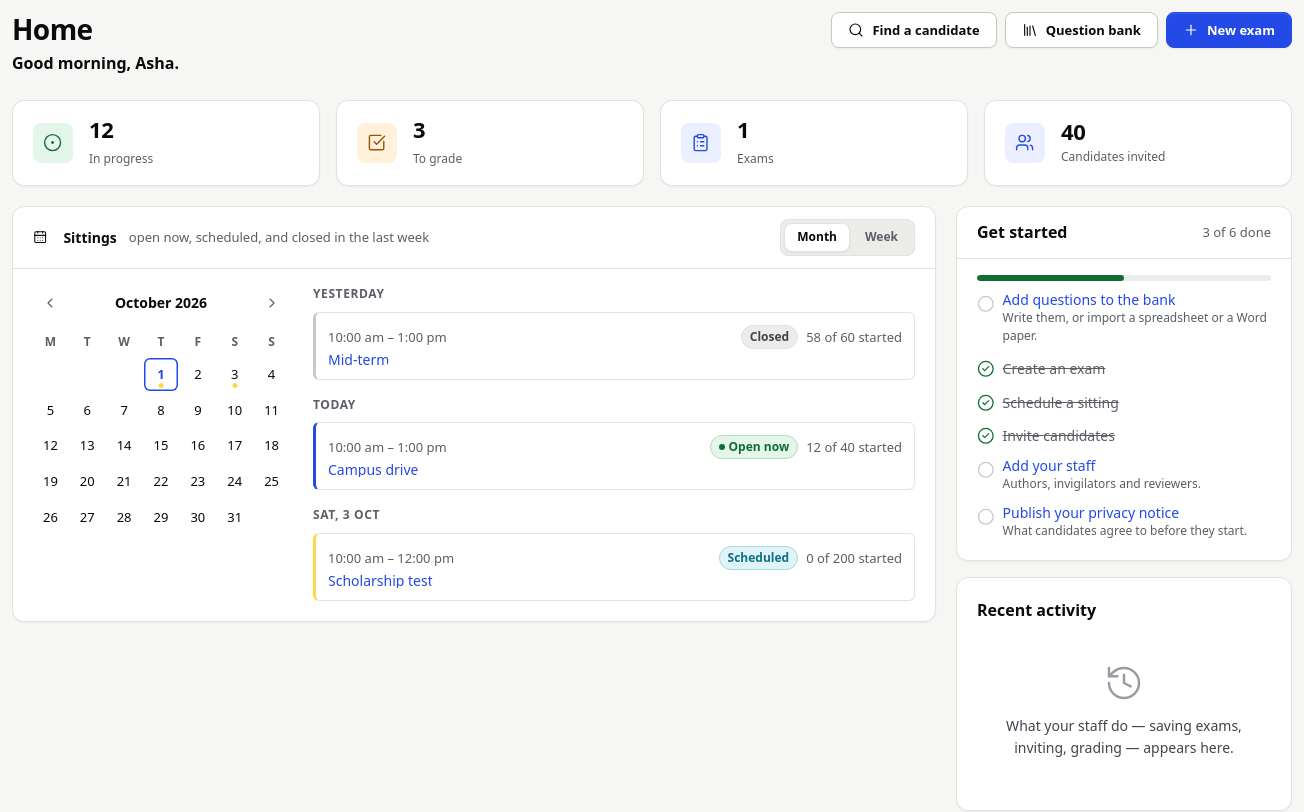
Test: the home calendar › shows only a chosen day's sittings, and opens an exam from them
The image size is (1304, 812).
Click the button named "3 October: 1 sitting". click: [235, 375]
box: [217,358,252,392]
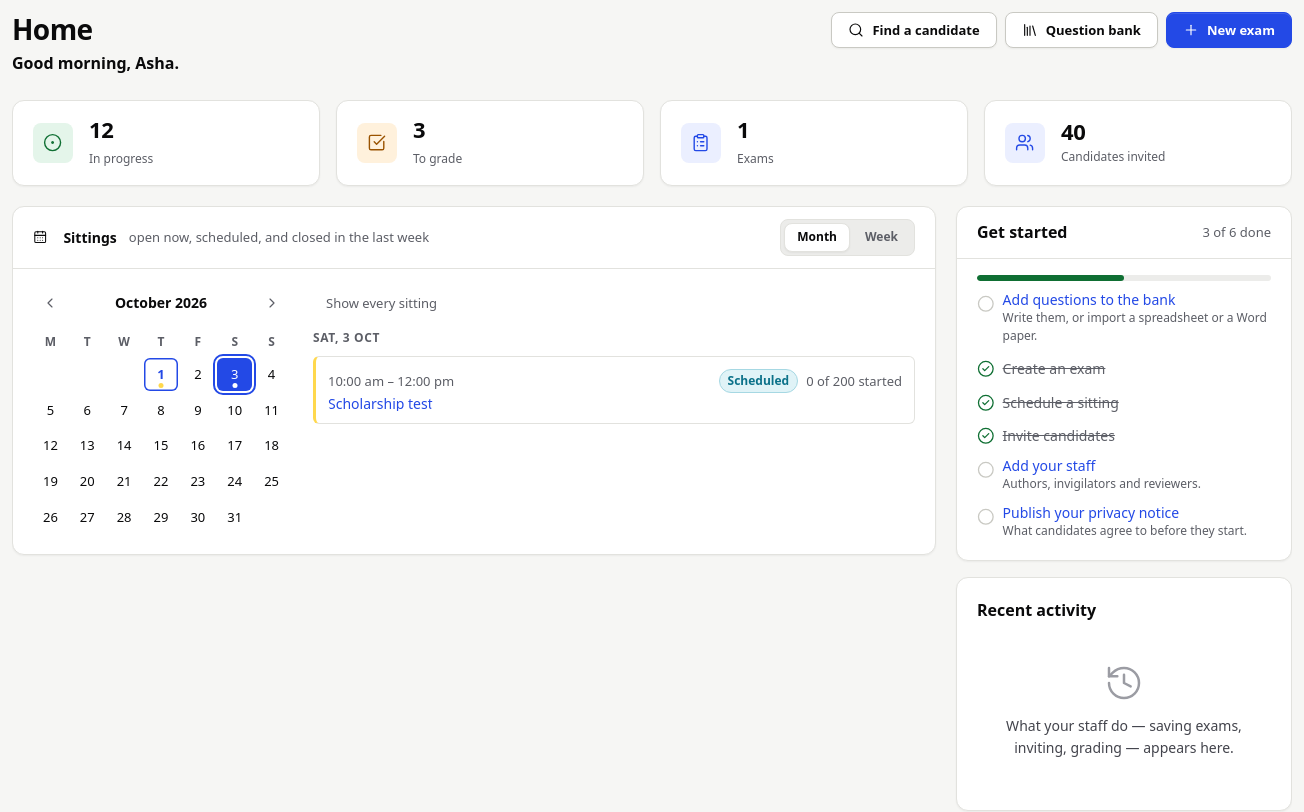
Expected: the button "Campus drive" is gone
Click the button "Scholarship test". click: [380, 404]
box: [328,397,433,411]
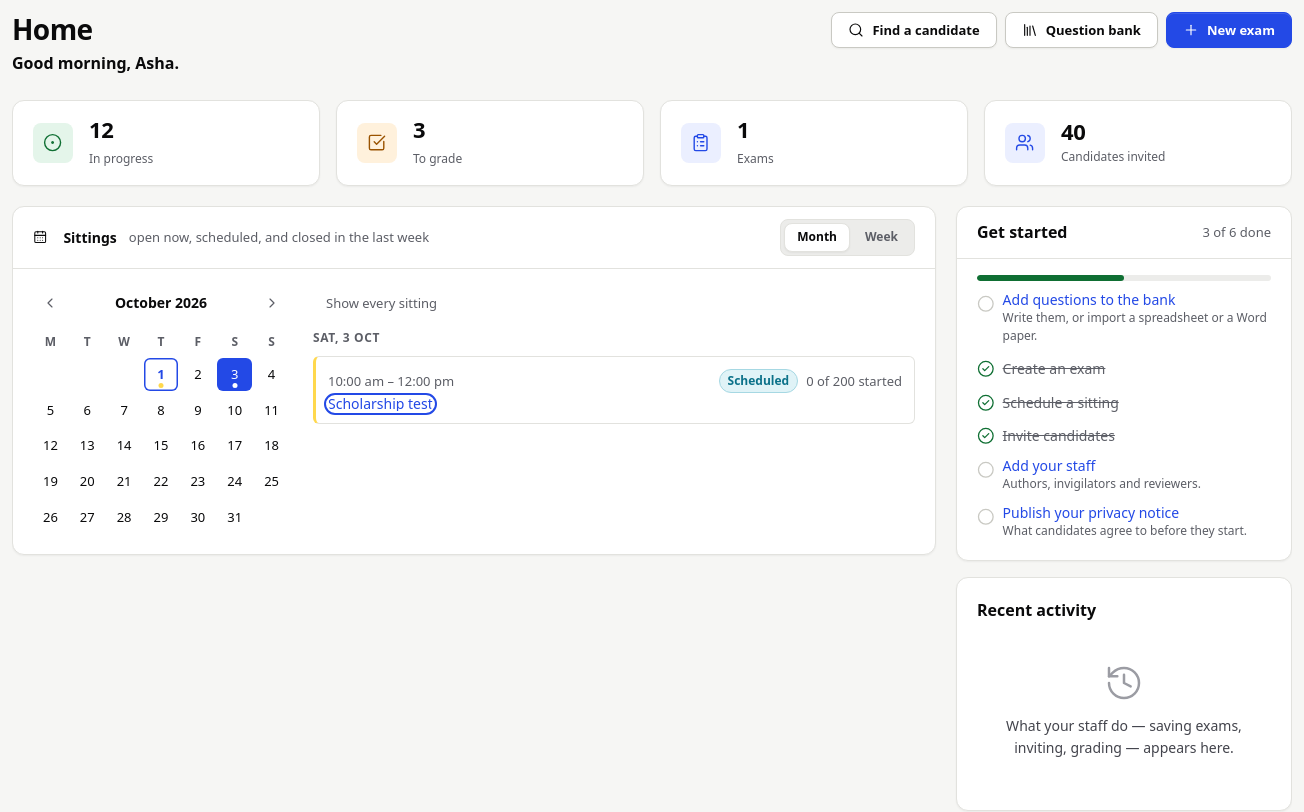
Click the button "Show every sitting". click: [382, 303]
box: [313,285,450,321]
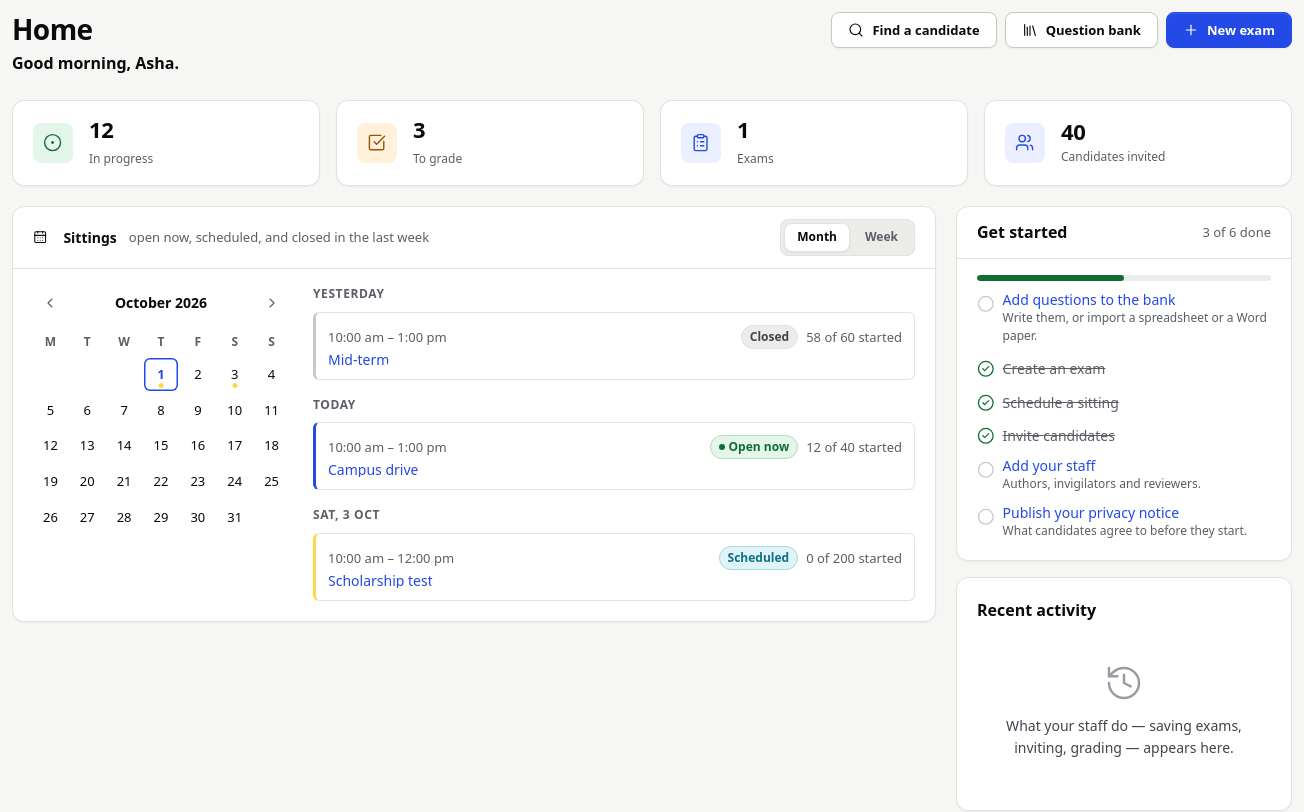
Expected: the button "Campus drive" is shown, [328,464,418,478]
